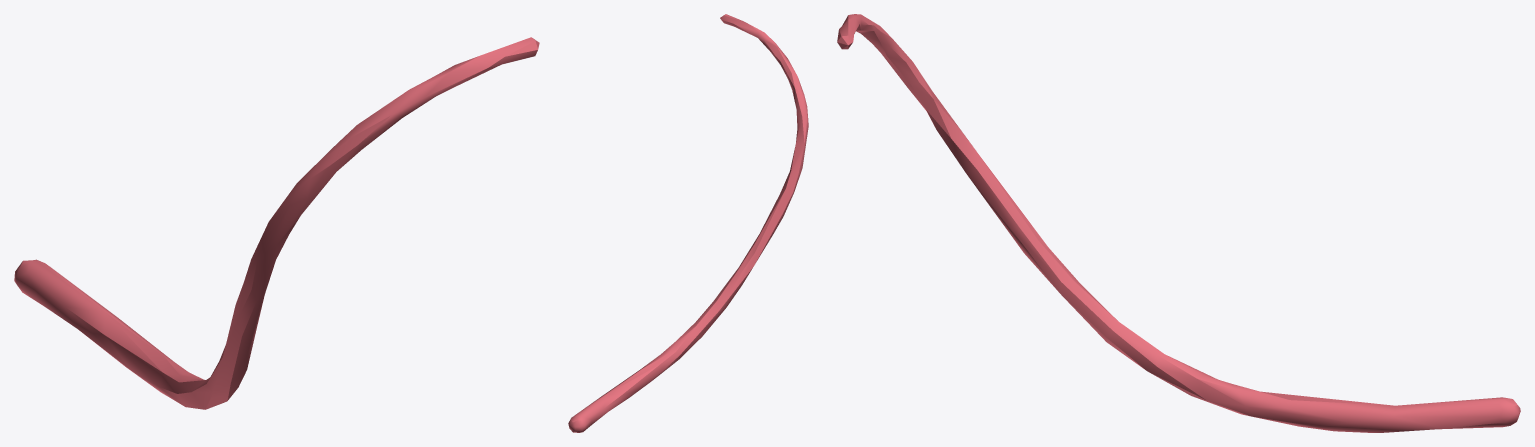
The model's file is fma49535_fj5074.glb.
The picture shows the model from 3 angles, left to right: view 1: azimuth 30°, elevation 25°; view 2: azimuth 150°, elevation 25°; view 3: azimuth 270°, elevation 25°; orthographic projection. The views are drawn at different scales.
Visible parts, largest first — view 1: FMA49535_FJ5074; view 2: FMA49535_FJ5074; view 3: FMA49535_FJ5074.
Boxes of the visible parts, left/top/right/bottom form: FMA49535_FJ5074: left=14, top=37, right=539, bottom=409; FMA49535_FJ5074: left=568, top=14, right=808, bottom=432; FMA49535_FJ5074: left=837, top=14, right=1520, bottom=432.
Bounding box in the file's own units: 0.00664 × 0.0149 × 0.0212.
